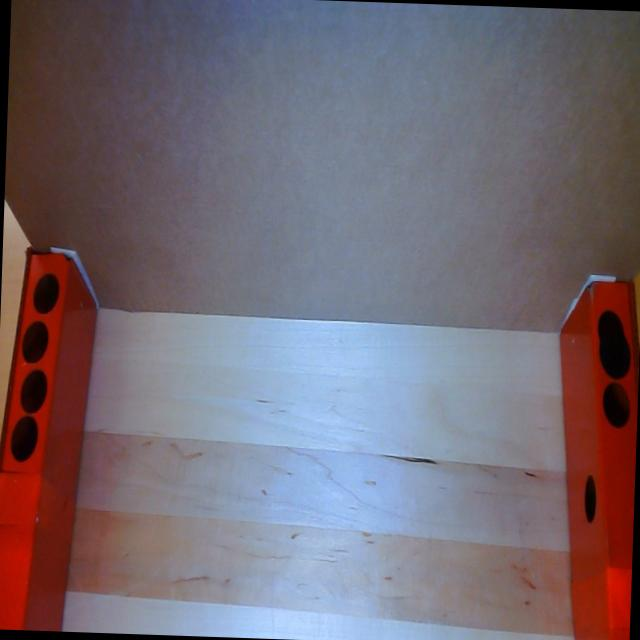Hole: (601, 380, 631, 432), (8, 414, 38, 462), (18, 368, 48, 413), (20, 319, 49, 364), (32, 270, 60, 315), (580, 467, 600, 524), (595, 306, 624, 344)
Sticker: (596, 328, 632, 380)
